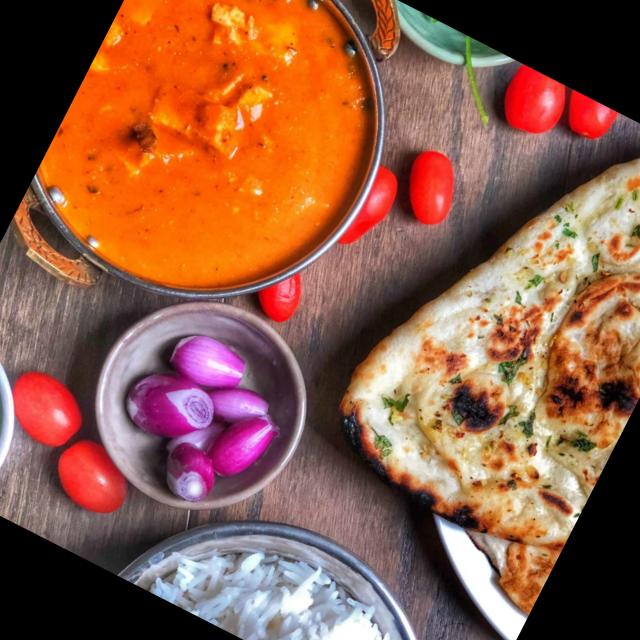ShahiPaneer: (15, 0, 437, 355)
